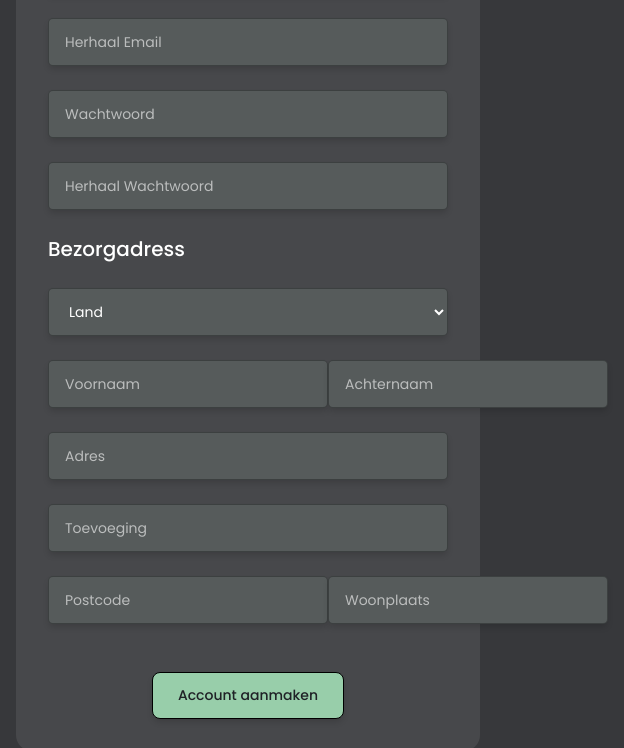
Test case: RegisterPage › toont adresfouten als adres gedeeltelijk ingevuld is
The image size is (624, 748).
(page scrolled)
Type "Jan" into the field with placeholder "Voornaam" at [188, 384], box [48, 360, 328, 408]
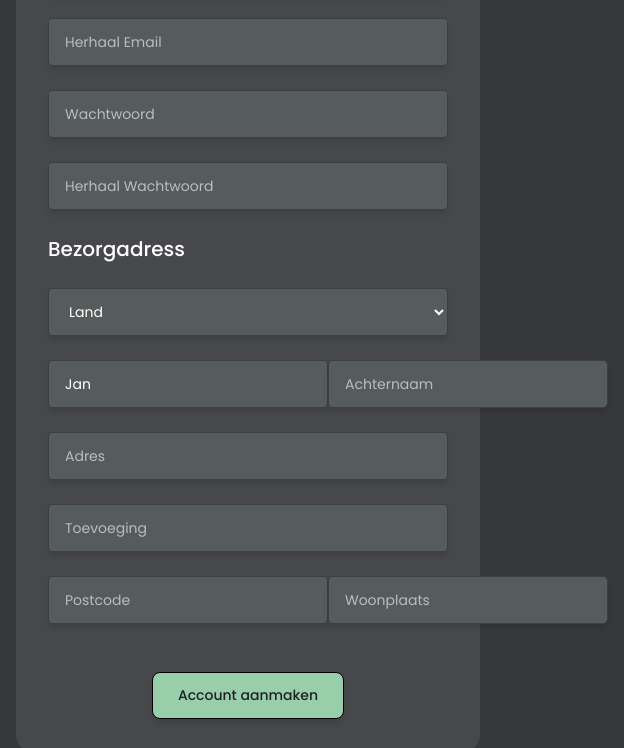
Click the button "Account aanmaken" at [248, 696], box [152, 672, 344, 719]
(page scrolled)
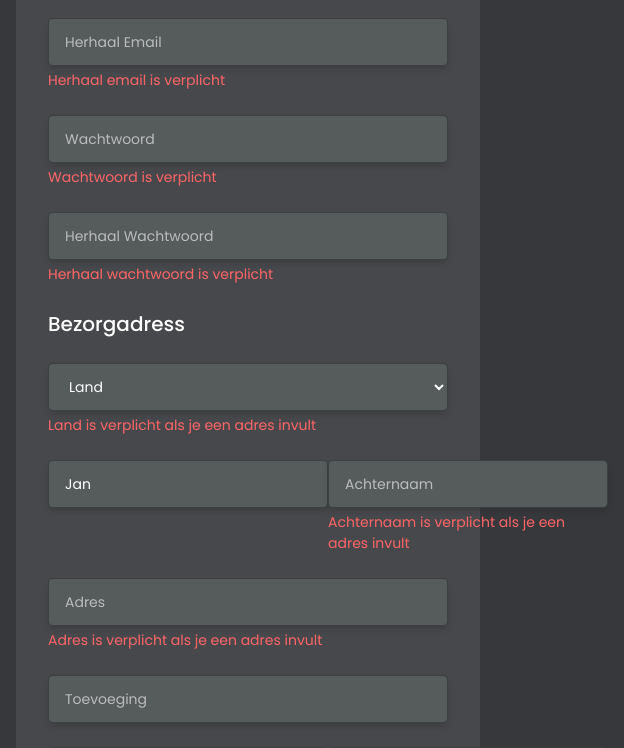
Now the text "Achternaam is verplicht als je een adres invult" is shown, box [328, 512, 565, 553]
Now the text "Adres is verplicht als je een adres invult" is shown, box [48, 630, 322, 650]
